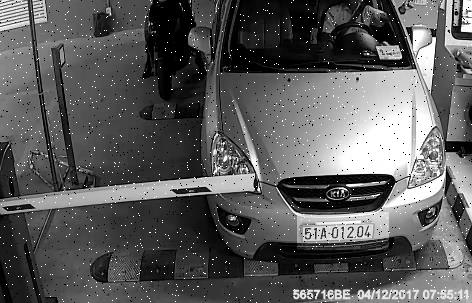License-plate: (298, 213, 390, 251)
